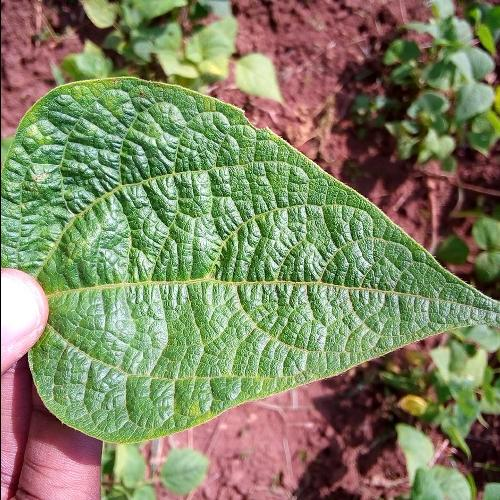mozaik: (49, 140, 320, 371)
